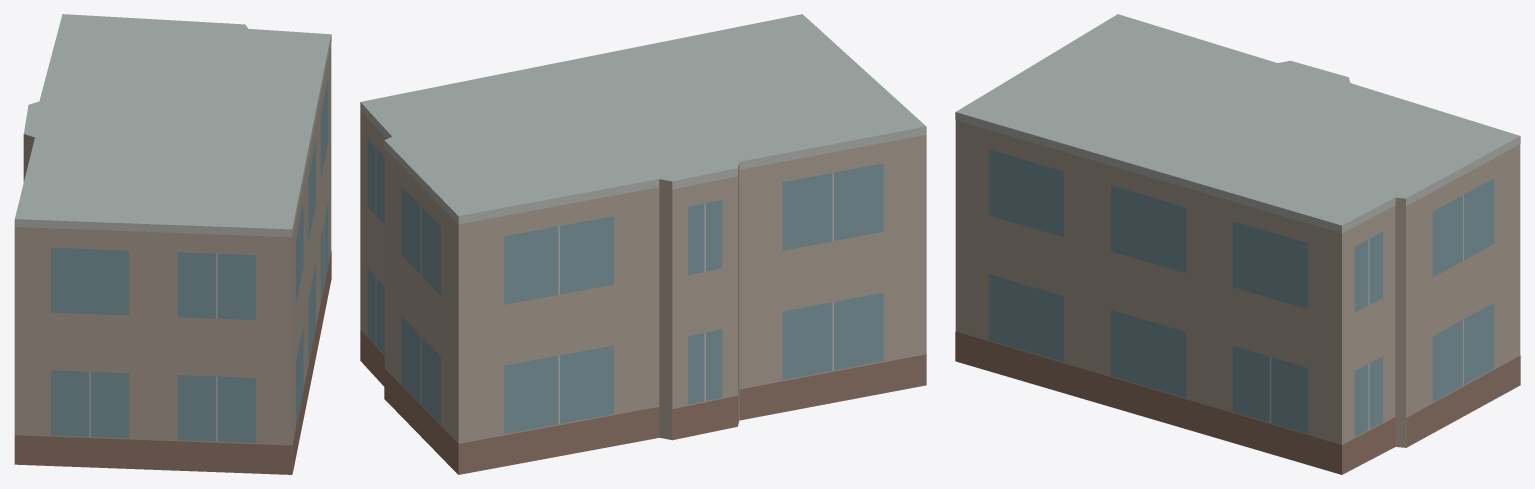
The model's file is survey-upis-32626933.glb.
3 views of the same model, side by side, from view 1: azimuth 30°, elevation 25°; view 2: azimuth 150°, elevation 25°; view 3: azimuth 270°, elevation 25° (orthographic). The views are drawn at different scales.
Parts seen in each view (by area): view 1: survey-upis-32626933.tmp; view 2: survey-upis-32626933.tmp; view 3: survey-upis-32626933.tmp.
Part boxes in pixels (x1=…): survey-upis-32626933.tmp: x1=14, y1=14, x2=331, y2=474; survey-upis-32626933.tmp: x1=360, y1=14, x2=926, y2=474; survey-upis-32626933.tmp: x1=955, y1=14, x2=1520, y2=474.
Bounding box in the file's own units: 14.02 × 7.7 × 15.83.
